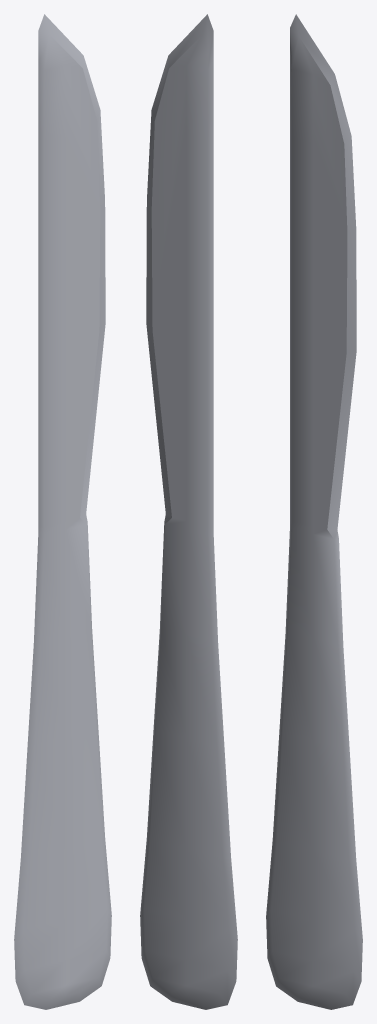
File: kniv.glb
3 views of the same model, side by side, from view 1: azimuth 30°, elevation 25°; view 2: azimuth 150°, elevation 25°; view 3: azimuth 330°, elevation 25° (orthographic).
Visible parts, largest first — view 1: utensil_butter_knife.001_Cube.025; view 2: utensil_butter_knife.001_Cube.025; view 3: utensil_butter_knife.001_Cube.025.
Part boxes in pixels (box(x1,y1,x2,y2)): utensil_butter_knife.001_Cube.025: box(14, 14, 111, 1009); utensil_butter_knife.001_Cube.025: box(140, 14, 237, 1009); utensil_butter_knife.001_Cube.025: box(266, 14, 362, 1009).
Bounding box in the file's own units: 0.4842 × 4.72 × 0.0345.
Materials: 1 (1 with a texture image).
